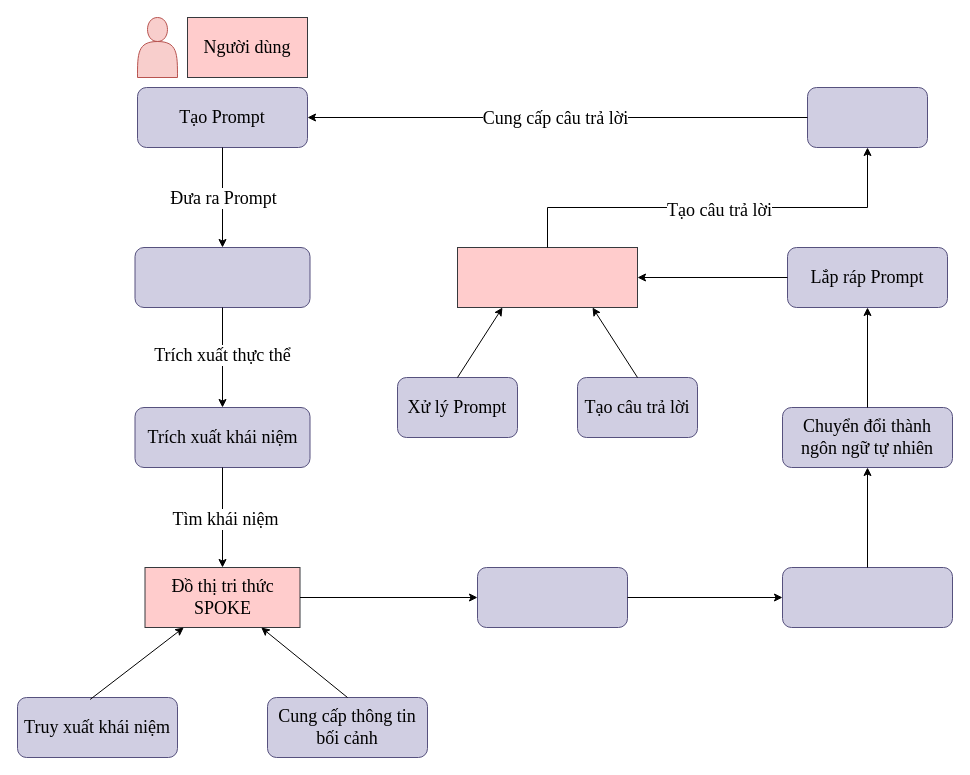
The diagram is 970 pixels wide and 775 high, and some of its shapes have lost their labels. The shapes that lost their labels are listed below. From the top down, each one's centre as x and y in pixels, then its label:
At (x=867, y=117): "Truy xuất câu trả lời".
At (x=222, y=277): "Nhận diện thực thể".
At (x=547, y=277): "Mô hình ngôn ngữ lớn".
At (x=552, y=597): "Nhúng khái niệm".
At (x=867, y=597): "Tạo ngữ cảnh cho Prompt".
